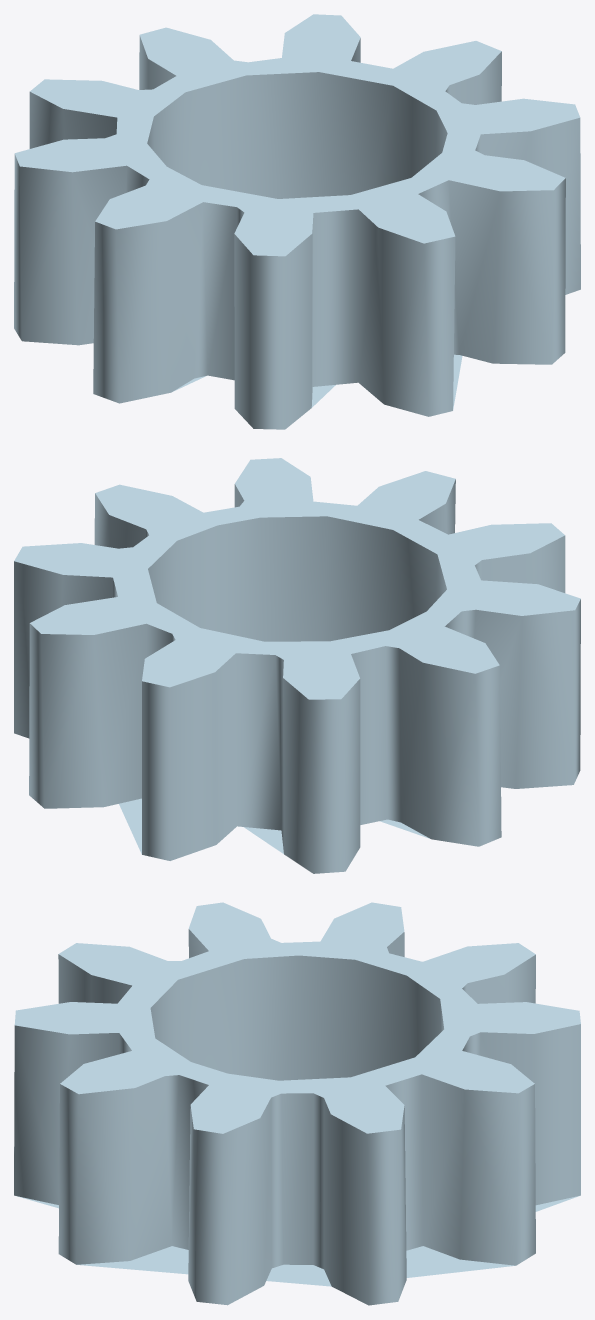
File: pinion10t.fbx
3 views of the same model, one above another, from view 1: azimuth 30°, elevation 25°; view 2: azimuth 150°, elevation 25°; view 3: azimuth 270°, elevation 25° (orthographic).
Visible parts, largest first — view 1: Spur gear (10 teeth); view 2: Spur gear (10 teeth); view 3: Spur gear (10 teeth).
Part boxes in pixels (left/top/right/bottom): Spur gear (10 teeth): left=14, top=14, right=580, bottom=429; Spur gear (10 teeth): left=14, top=458, right=580, bottom=873; Spur gear (10 teeth): left=14, top=902, right=580, bottom=1305.
Size of the model in its own units: 1.47 by 0.508 by 1.52.
